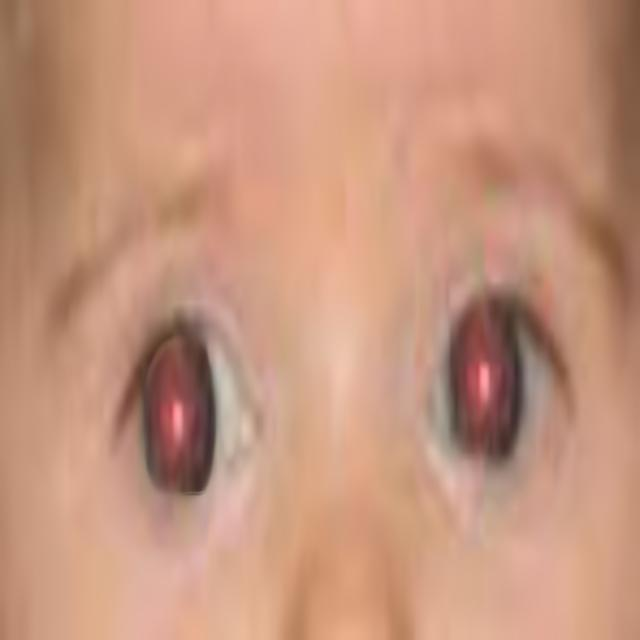reflexo-normal: (431, 272, 582, 509), (107, 319, 268, 500)
